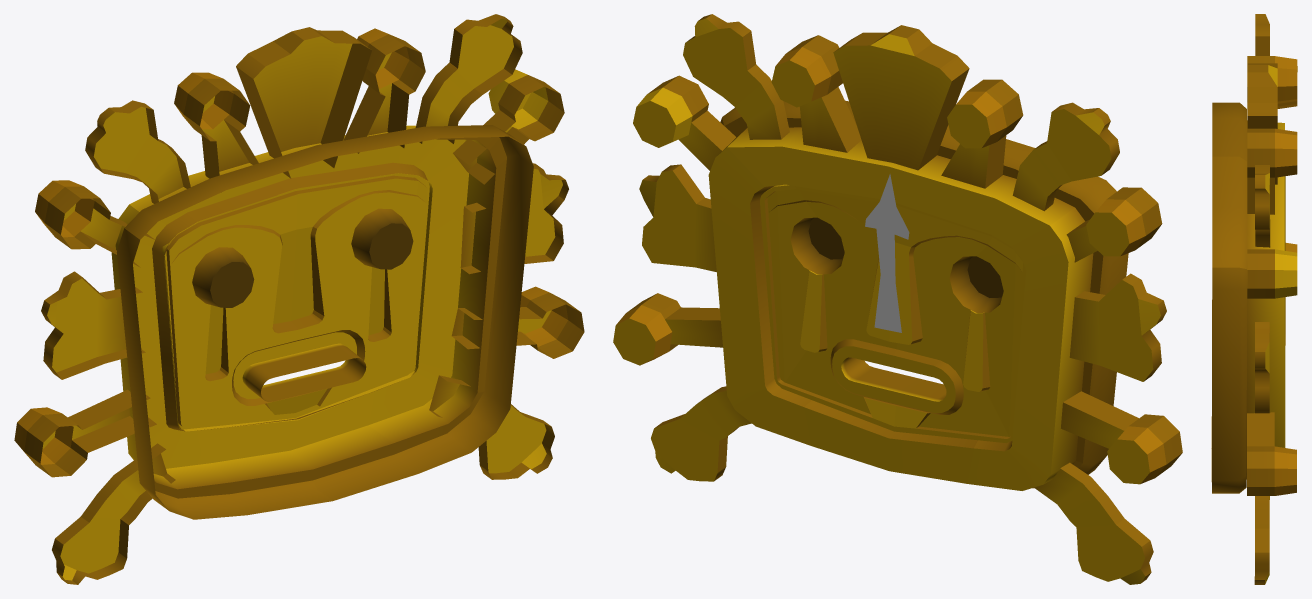
The model's file is Falling_Phantoms_Timer.fbx.
3 views of the same model, side by side, from view 1: azimuth 30°, elevation 25°; view 2: azimuth 150°, elevation 25°; view 3: azimuth 270°, elevation 25° (orthographic). The views are drawn at different scales.
Parts seen in each view (by area): view 1: TikiHeadClock; view 2: TikiHeadClock, ClockArm; view 3: TikiHeadClock.
Boxes of the visible parts, x1,y1,x2,y2 form: TikiHeadClock: (14,14,584,584); TikiHeadClock: (613,14,1182,584); ClockArm: (865,174,909,332); TikiHeadClock: (1211,14,1297,584).
Bounding box in the file's own units: 1.77 × 1.54 × 0.2856.
